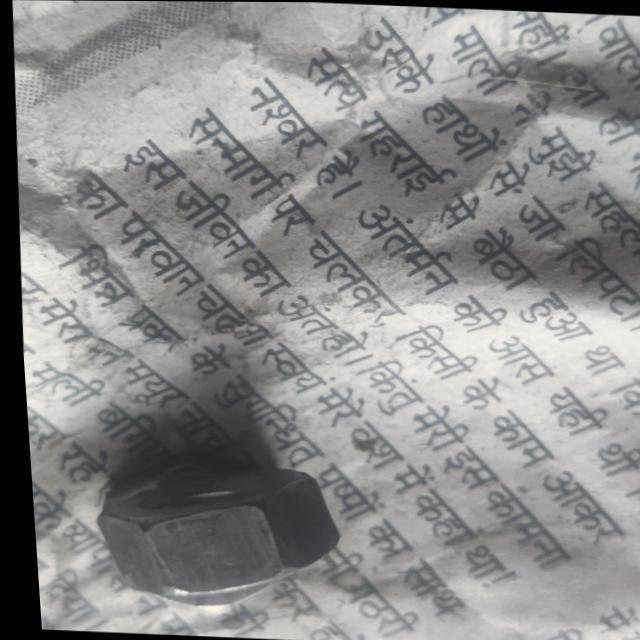disinfected nut: (90, 458, 331, 606)
